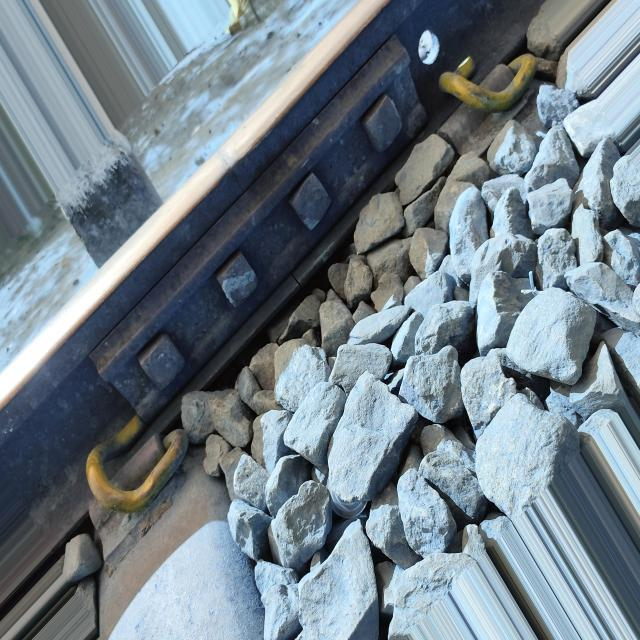Good Fasteners: (86, 415, 188, 569), (433, 54, 539, 156)
Good Joint: (94, 33, 430, 425)
